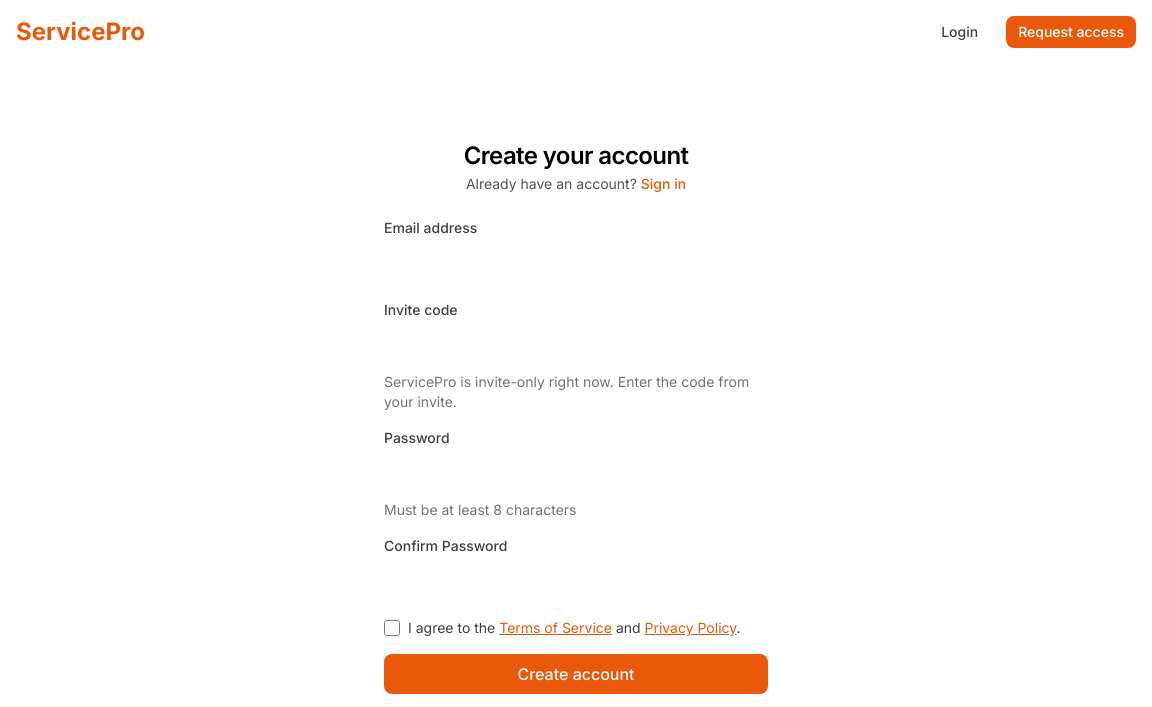
Authentication Flow Integration › Registration Flow › should show validation errors for invalid registration data
// Try to submit empty form
Click the button "Create account" at (576, 674), box [384, 654, 768, 694]
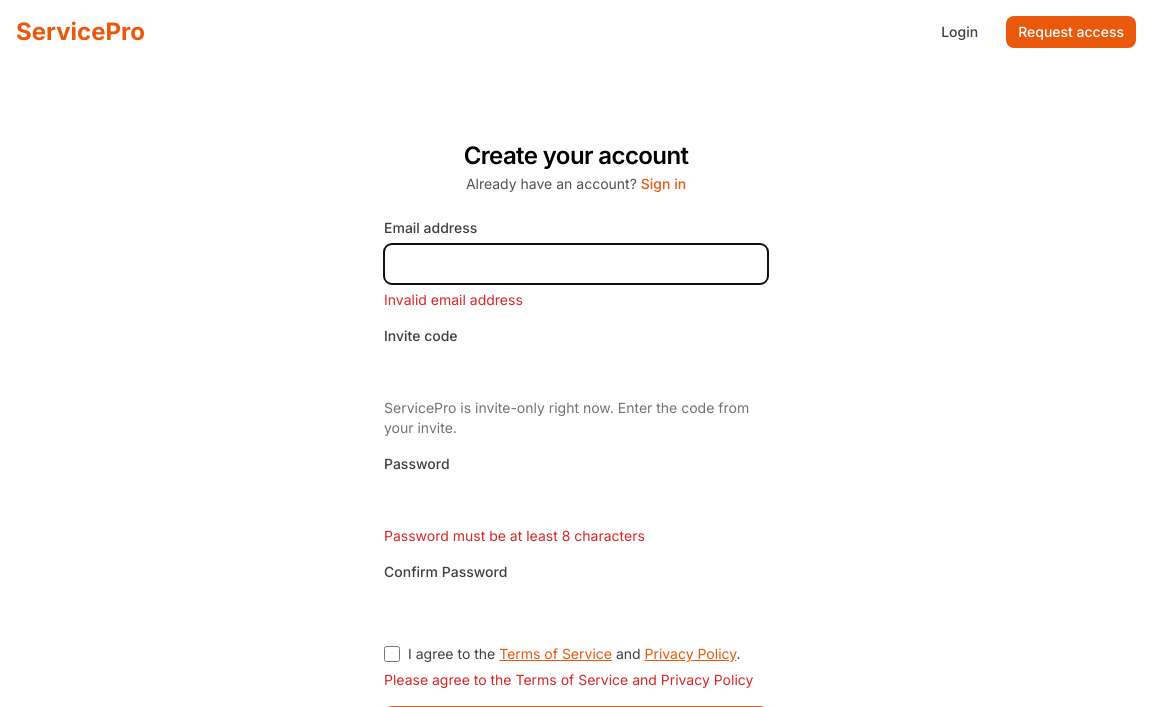
expect the text "Invalid email address" is shown: met, box [384, 291, 523, 308]
